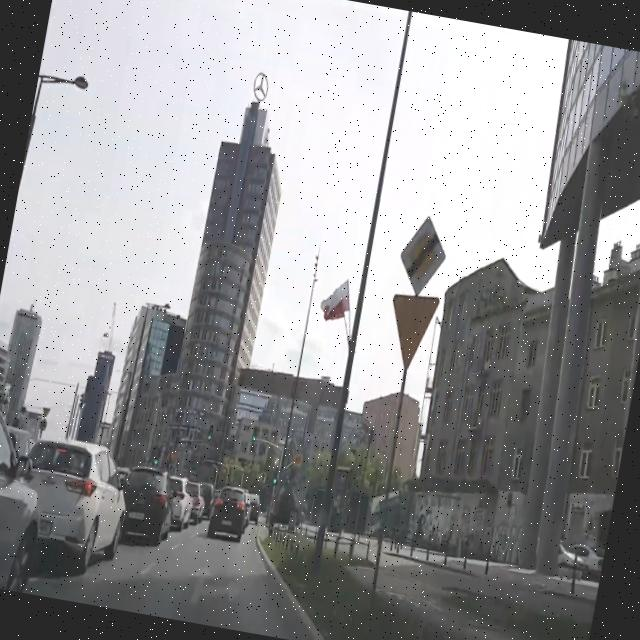Ustap pierwszenstwa: (381, 292, 438, 370)
